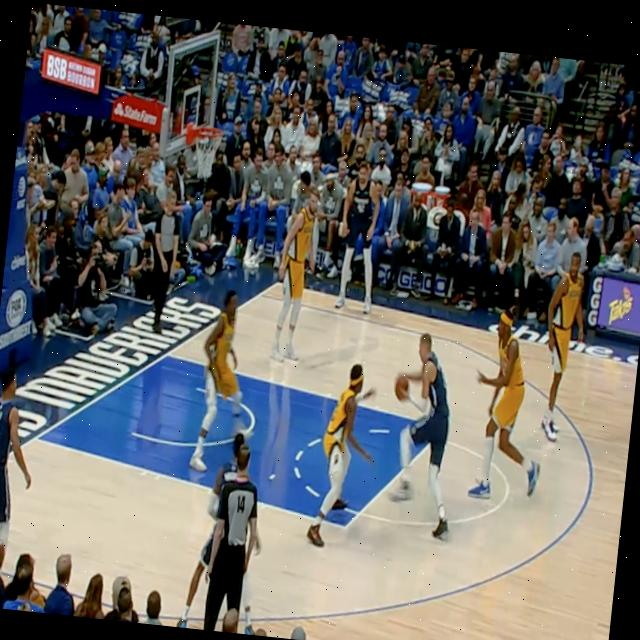no foul: (290, 308, 483, 559), (456, 251, 610, 512)
